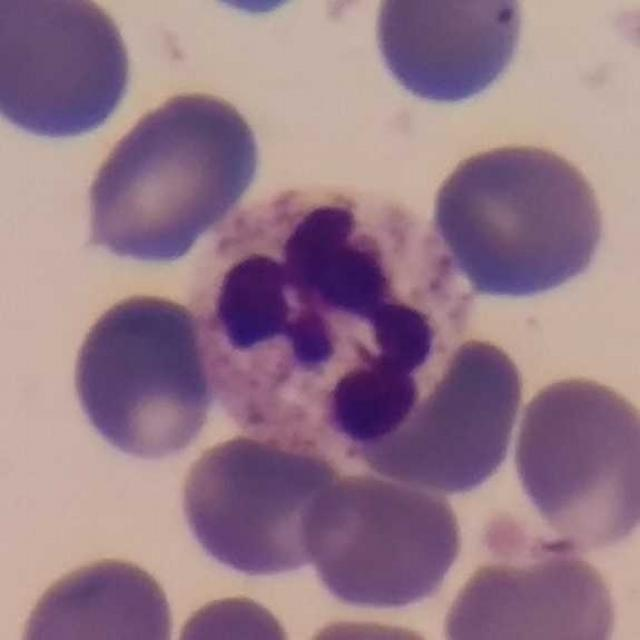Neutrophil: (190, 171, 462, 482)
RBC: (76, 83, 267, 270), (332, 327, 532, 498), (422, 134, 612, 305), (62, 285, 218, 469), (170, 429, 355, 583), (295, 468, 467, 616), (507, 368, 640, 554), (0, 0, 141, 149), (364, 0, 535, 116), (436, 544, 624, 639), (11, 550, 180, 640), (162, 589, 300, 640), (288, 611, 458, 640), (202, 0, 309, 23)
